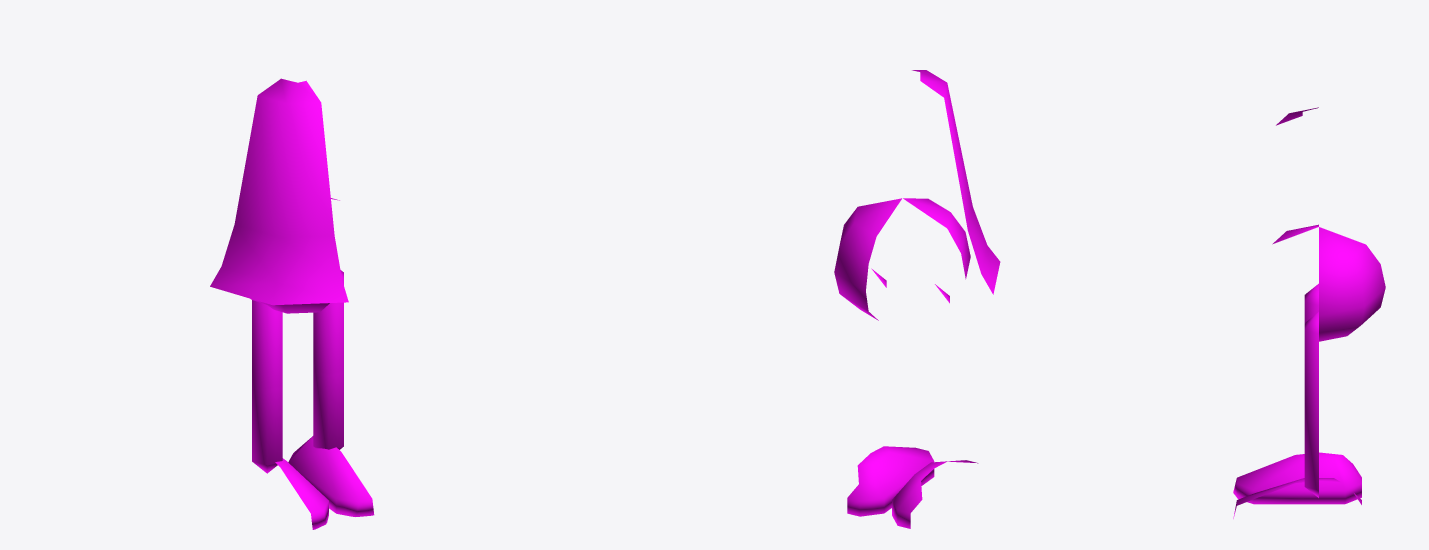
File: ava_bodyB3__ava_bodyB3.glb
3 renders of one model, left to right at view 1: azimuth 30°, elevation 25°; view 2: azimuth 150°, elevation 25°; view 3: azimuth 270°, elevation 25°, orthographic. The views are drawn at different scales.
Parts seen in each view (by area): view 1: polygon0; view 2: polygon0; view 3: polygon0.
Boxes of the visible parts, x1,y1,x2,y2 form: polygon0: [210, 78, 374, 529]; polygon0: [834, 70, 1000, 528]; polygon0: [1233, 107, 1385, 518].
Bounding box in the file's own units: 13.67 × 11 × 4.3.
1 material, 1 textured.
